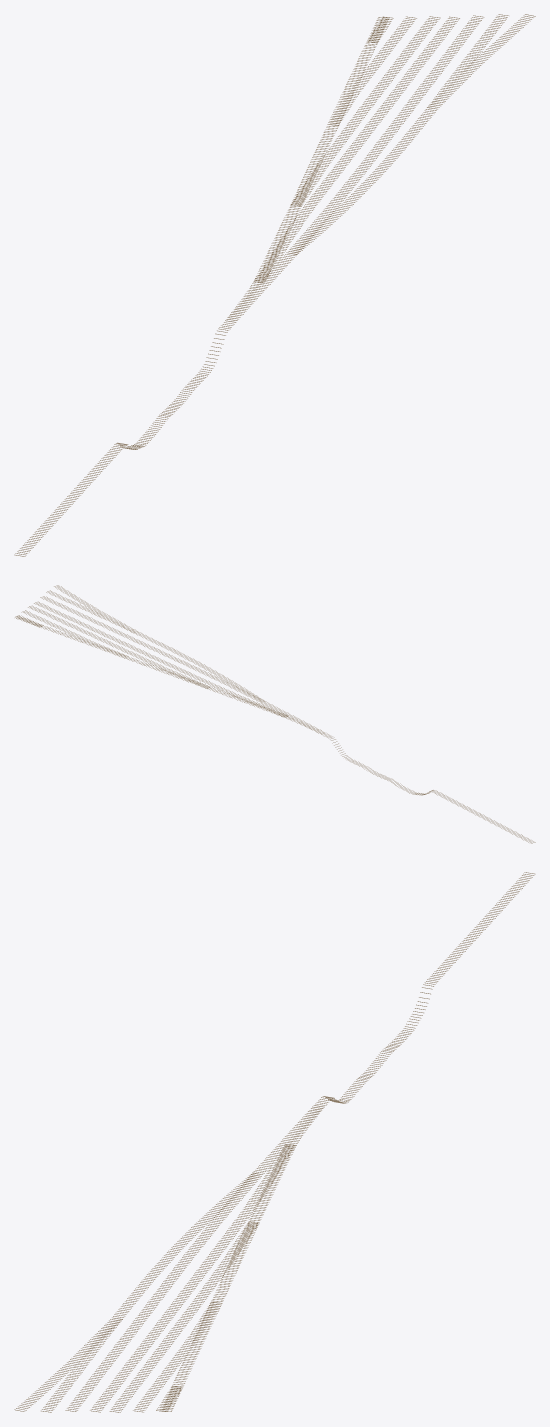
File: c_1626_17830_rail_sleeper.glb
The picture shows the model from 3 angles, top to bottom: view 1: azimuth 90°, elevation 25°; view 2: azimuth 150°, elevation 25°; view 3: azimuth 270°, elevation 25°; orthographic projection. The views are drawn at different scales.
Visible parts, largest first — view 1: geometry_0; view 2: geometry_0; view 3: geometry_0.
Part boxes in pixels (x1,y1,x2,y2): geometry_0: [14, 14, 535, 556]; geometry_0: [15, 585, 535, 843]; geometry_0: [14, 872, 535, 1412].
Size of the model in its own units: 257 by 5.28 by 104.
